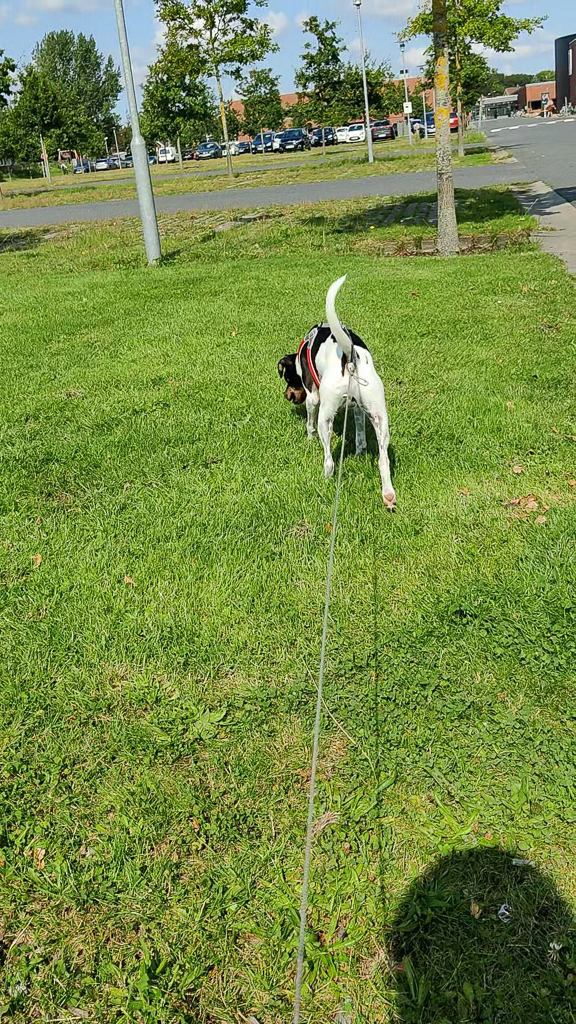Dog: (268, 272, 427, 515)
